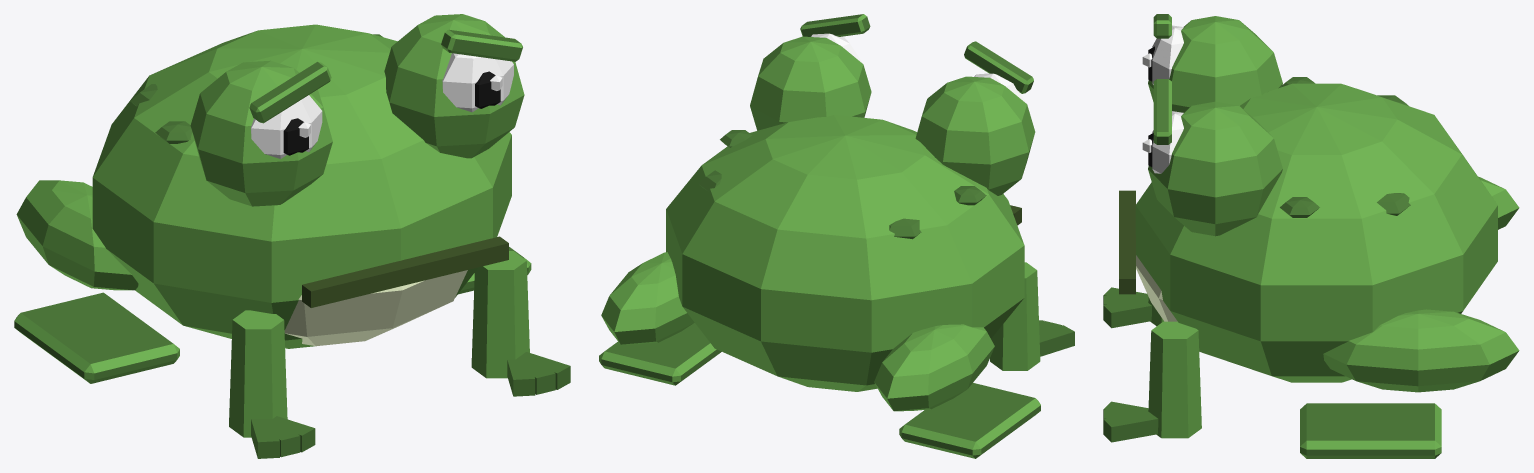
Rendered from frosch.glb.
The picture shows the model from 3 angles, left to right: view 1: azimuth 30°, elevation 25°; view 2: azimuth 150°, elevation 25°; view 3: azimuth 270°, elevation 25°; orthographic projection. The views are drawn at different scales.
Visible parts, largest first — view 1: body-m, legs-m; view 2: body-m, legs-m; view 3: body-m, legs-m.
Part boxes in pixels (bbox=[...]): body-m: bbox=[92, 14, 570, 458]; legs-m: bbox=[14, 180, 531, 383]; body-m: bbox=[666, 14, 1074, 391]; legs-m: bbox=[599, 252, 1040, 458]; body-m: bbox=[1103, 14, 1497, 442]; legs-m: bbox=[1300, 176, 1519, 458].
Bounding box in the file's own units: 1.4 × 1.06 × 1.23.
